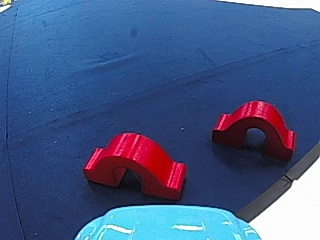bridge: (79, 126, 185, 194), (208, 97, 305, 159)
